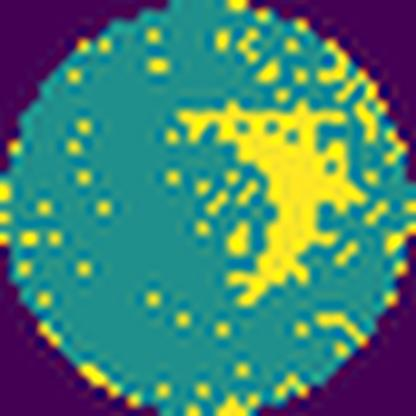Donut: (113, 100, 374, 312)
